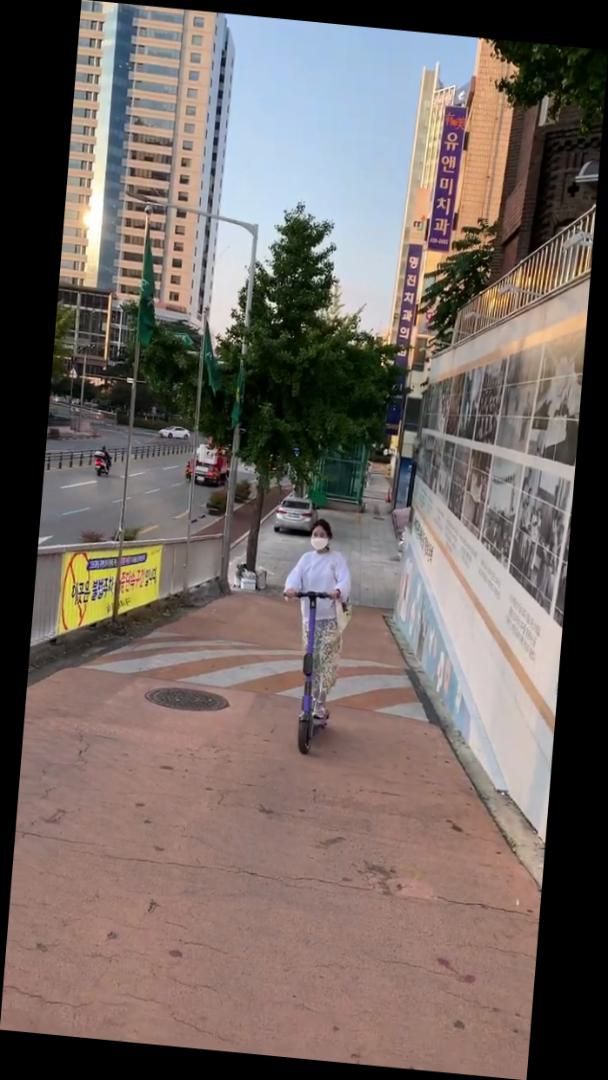nonhelmet: (270, 515, 362, 763)
